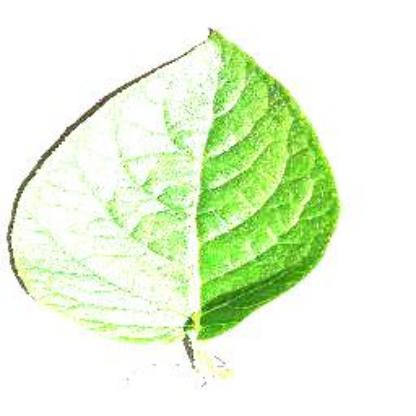Healthy-plant: (13, 24, 351, 352)
